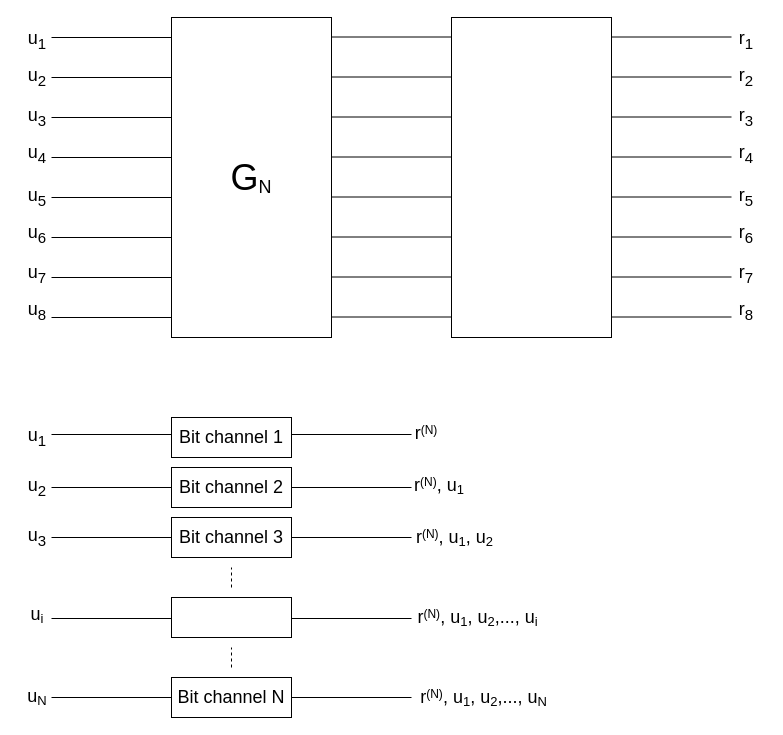
The diagram is 783 pixels wide and 735 high, and some of its shapes have lost their labels. Here are the shapes that lost their labels. From the top down, the centre of each, then its label:
the point at 531,177: BPSK + AWGN
the point at 231,617: Bit channel i
